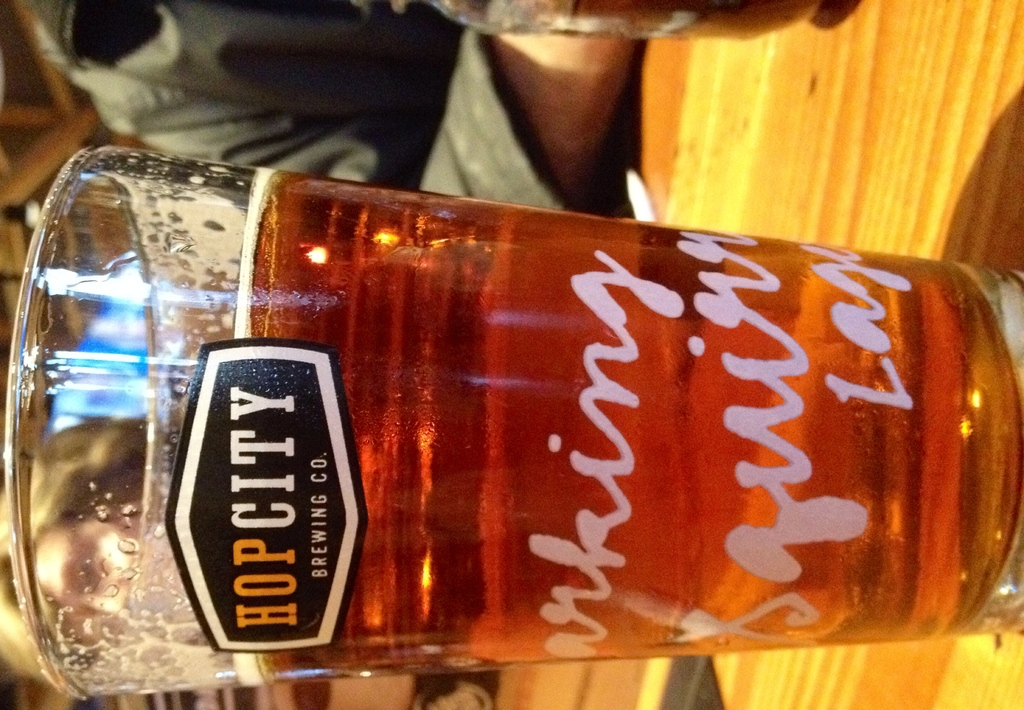Beer: (234, 222, 1023, 657)
